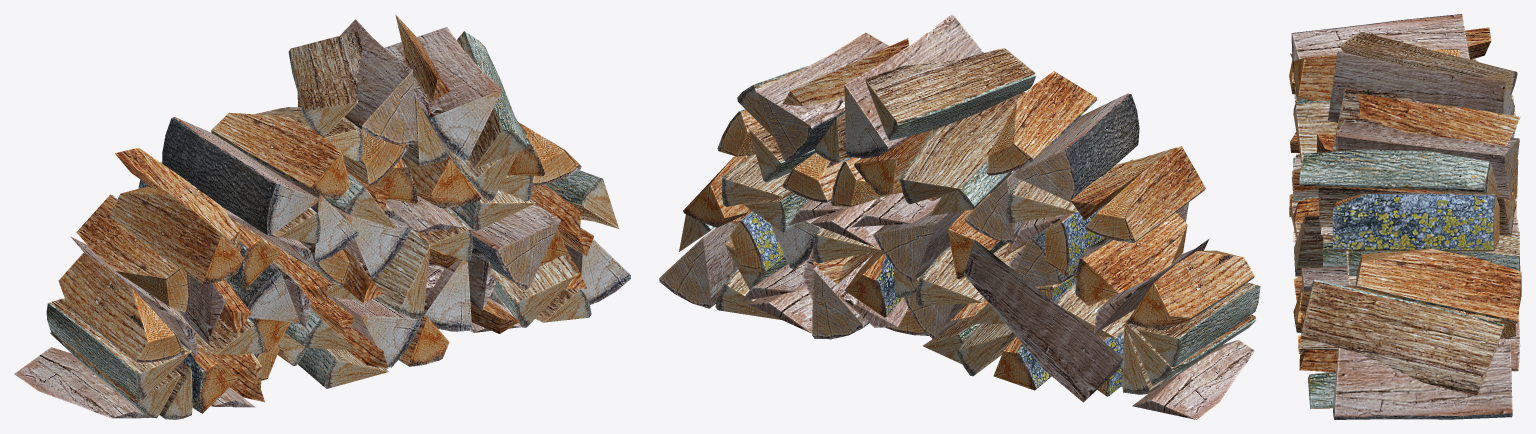
Rendered from FirewoodPoleno_6.FBX.
The picture shows the model from 3 angles, left to right: view 1: azimuth 30°, elevation 25°; view 2: azimuth 150°, elevation 25°; view 3: azimuth 270°, elevation 25°; orthographic projection. The views are drawn at different scales.
Parts seen in each view (by area): view 1: FirewoodPoleno_6; view 2: FirewoodPoleno_6; view 3: FirewoodPoleno_6.
Part boxes in pixels (<box>): FirewoodPoleno_6: <box>14,14,630,419</box>; FirewoodPoleno_6: <box>659,14,1260,419</box>; FirewoodPoleno_6: <box>1289,14,1521,419</box>.
Bounding box in the file's own units: 4.62 × 2.29 × 1.72.
